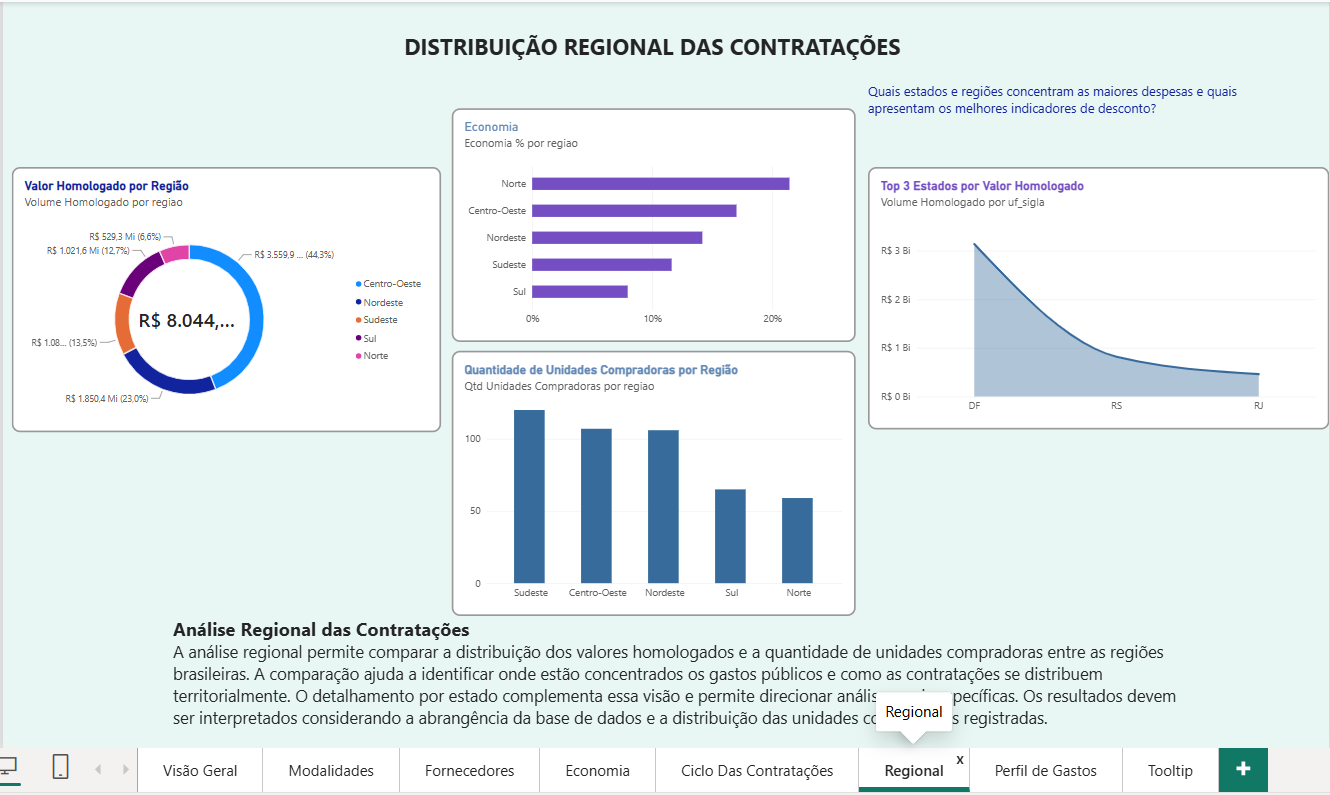

What the dashboard file says about the page in this screenshot:
{"tool":"powerbi","page":{"name":"Regional","canvas":[1920,1080],"ordinal":6},"visuals":[{"type":"donutChart","title":"Valor Homologado por Região ","fields":{"Category":["pncp_controladoria dim_localidade.regiao"],"Y":["Medidas.Volume Homologado"]},"box":[12.7,238.9,621.4,384.1],"z":0},{"type":"stackedAreaChart","title":"Top 3 Estados por Valor Homologado ","fields":{"Category":["pncp_controladoria dim_localidade.uf_sigla"],"Y":["Medidas.Volume Homologado"]},"box":[1252.3,238.9,667.8,380],"z":1000},{"type":"clusteredColumnChart","title":"Quantidade de Unidades Compradoras por Região","fields":{"Category":["pncp_controladoria dim_localidade.regiao"],"Y":["Medidas.Qtd Unidades Compradoras"]},"box":[649.7,504.9,585.2,384.1],"z":2000},{"type":"textbox","box":[246.1,888.5,1483.9,170.1],"z":3000},{"type":"textbox","box":[1252.3,115.8,575.5,76],"z":4000},{"type":"clusteredBarChart","title":"Economia","fields":{"Category":["pncp_controladoria dim_localidade.regiao"],"Y":["Medidas.Economia %"]},"box":[649.7,153.8,584.5,338.4],"z":5000},{"type":"textbox","box":[580.9,41.6,754.6,47.1],"z":6000}]}

Visuals, with their boxes on the page's 1920x1080 design canvas (x1, y1, x2, y2). These are canvas units, not pixel positions in the 1330x795 screenshot, which may show the page scaled, cropped or inside an application window:
"Valor Homologado por Região " donutChart: bbox=(13, 239, 634, 623)
"Top 3 Estados por Valor Homologado " stackedAreaChart: bbox=(1252, 239, 1920, 619)
"Quantidade de Unidades Compradoras por Região" clusteredColumnChart: bbox=(650, 505, 1235, 889)
textbox: bbox=(246, 888, 1730, 1059)
textbox: bbox=(1252, 116, 1828, 192)
"Economia" clusteredBarChart: bbox=(650, 154, 1234, 492)
textbox: bbox=(581, 42, 1336, 89)
